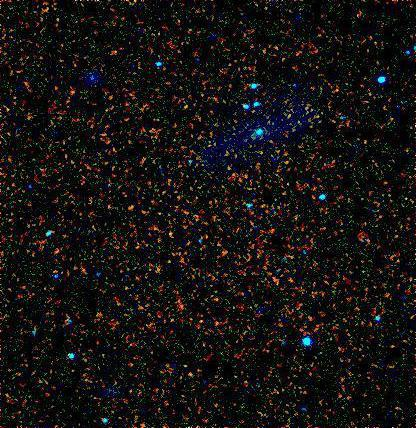star: (99, 39, 129, 69)
